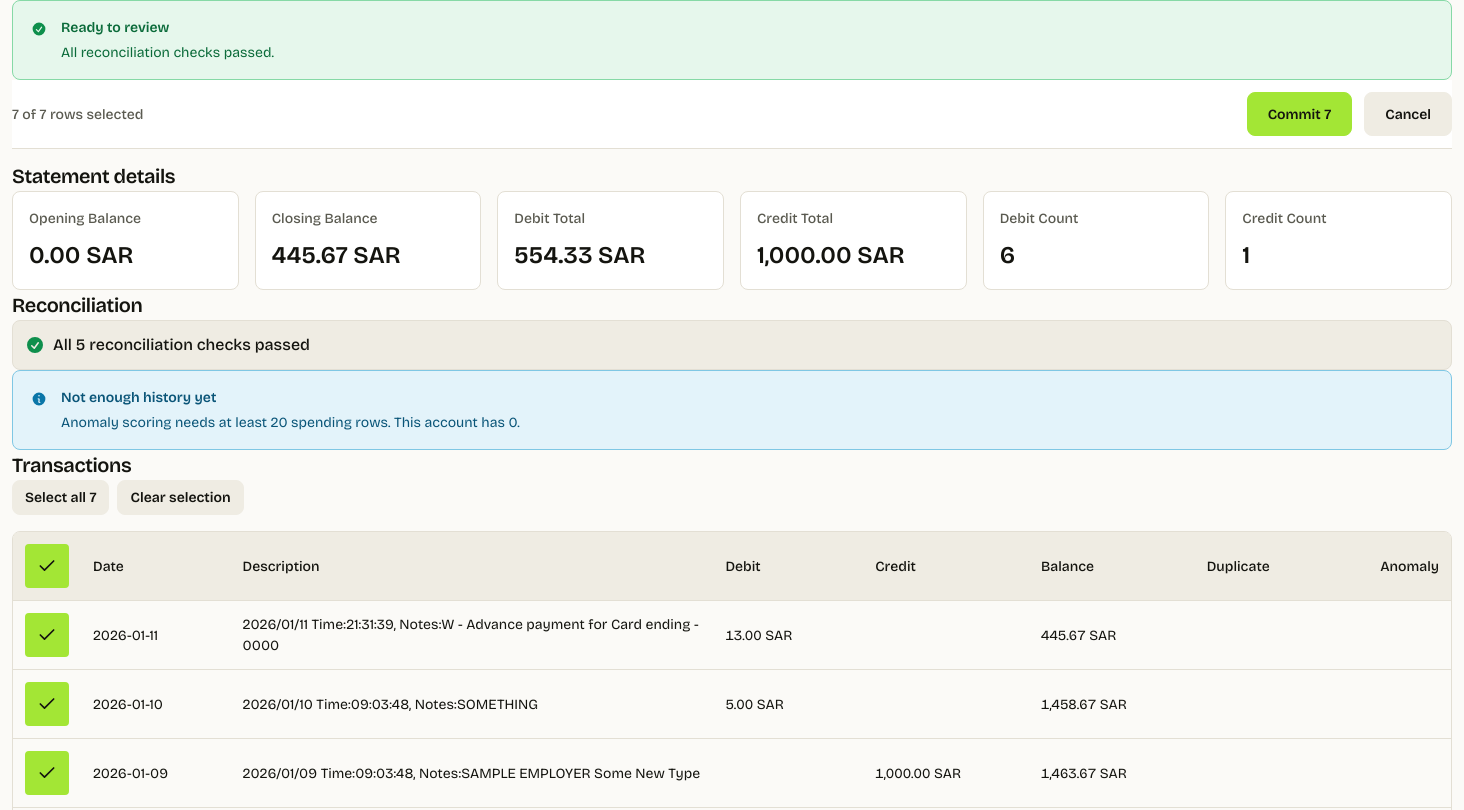
ReviewScreen › shows inserted count and View overview link after successful commit
What coordinates should you click on to do the following:
click the button "Commit 7"
I would click on:
 (1299, 114)
Its box is [1247,92,1352,136].
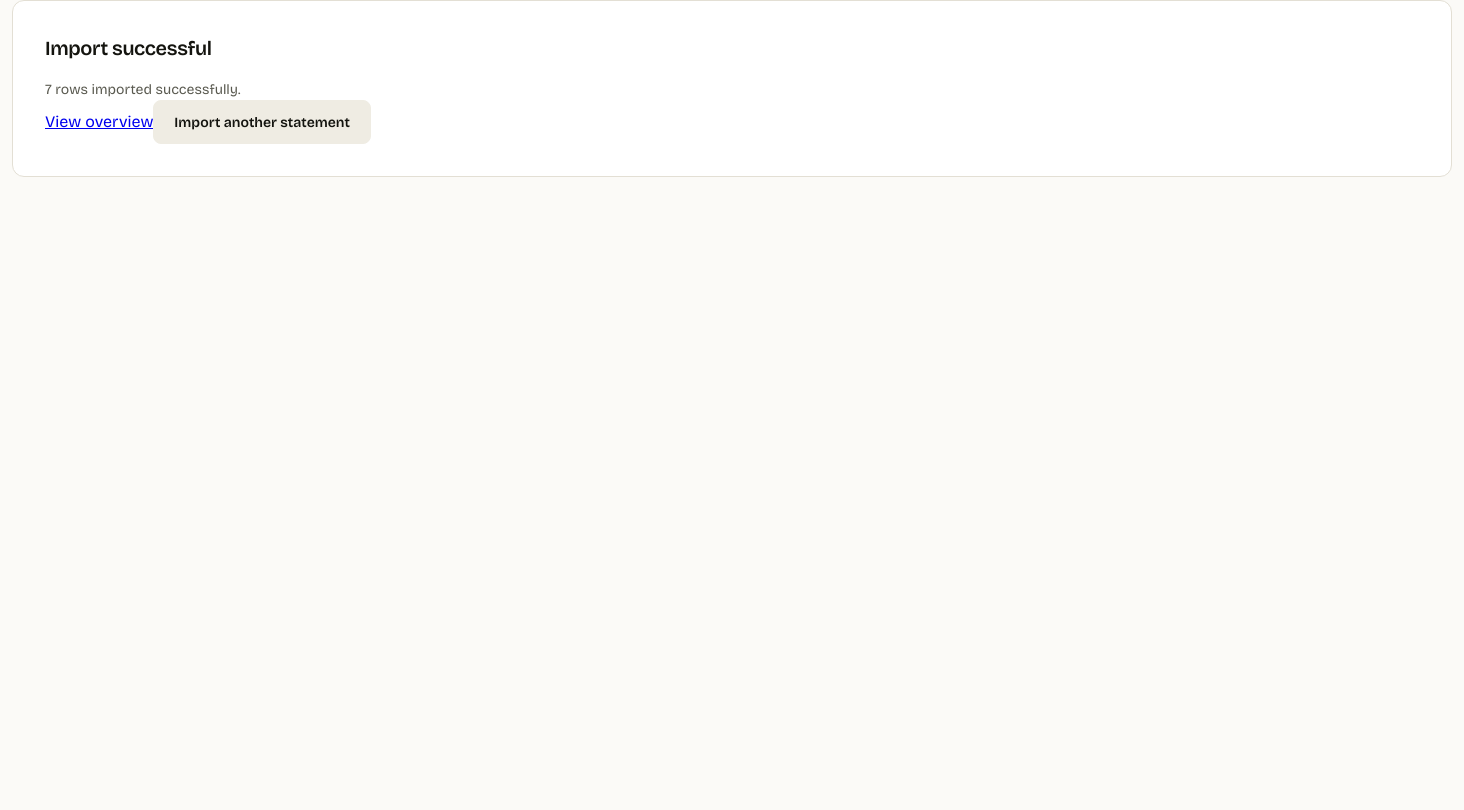
Expected: the text "7 rows imported successfully." is shown, [45,81,240,98]
Expected: the link "View overview" is shown, [45,112,153,130]
